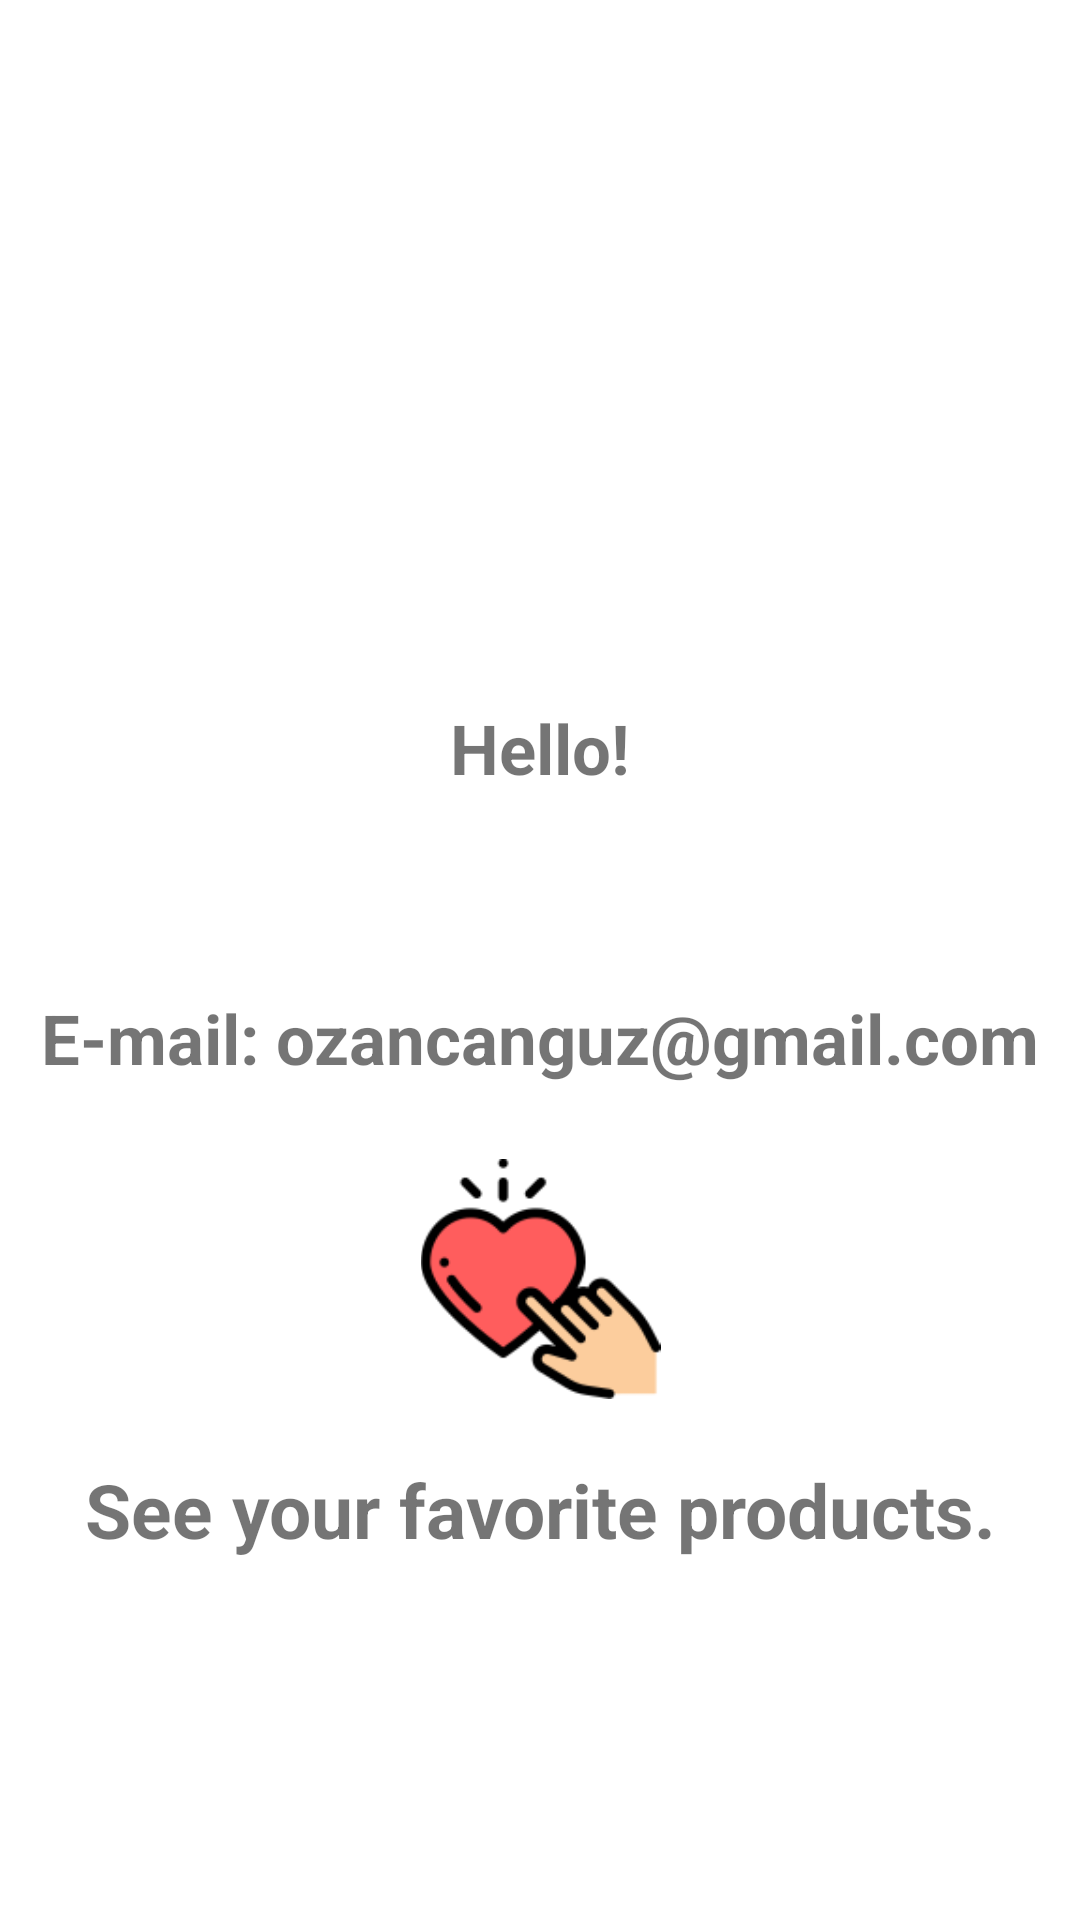

Icon bounding boxes for this 1080 x 1920 phone screenshot, format (x1, y1, x2, y2):
userfav: (421, 1159, 661, 1399)
